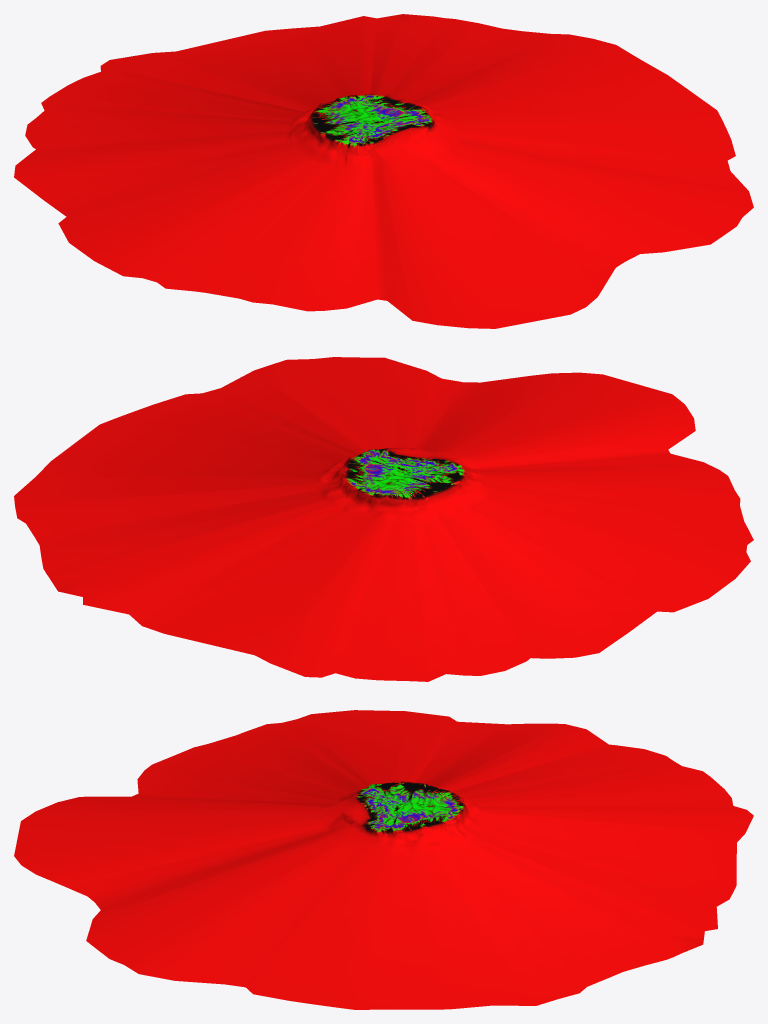
File: Island_low.fbx
3 renders of one model, top to bottom at view 1: azimuth 30°, elevation 25°; view 2: azimuth 150°, elevation 25°; view 3: azimuth 270°, elevation 25°, orthographic. The views are drawn at different scales.
Visible parts, largest first — view 1: SM_Island_low; view 2: SM_Island_low; view 3: SM_Island_low.
Boxes of the visible parts, box(x1,y1,x2,y2) form: SM_Island_low: box(14, 14, 753, 328); SM_Island_low: box(14, 357, 753, 681); SM_Island_low: box(14, 710, 753, 1009).
Bounding box in the file's own units: 160 × 167 × 12.77.
Materials: 1 (1 with a texture image).
